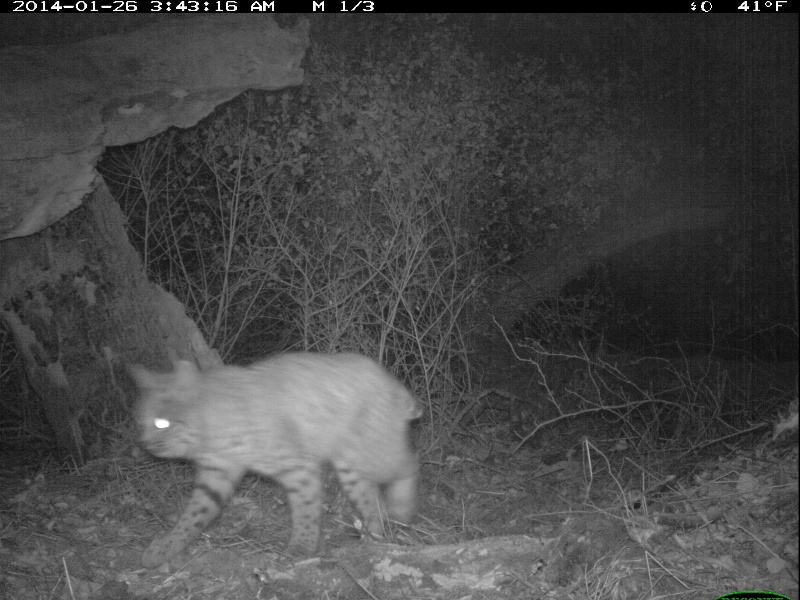cat: (128, 348, 427, 558)
